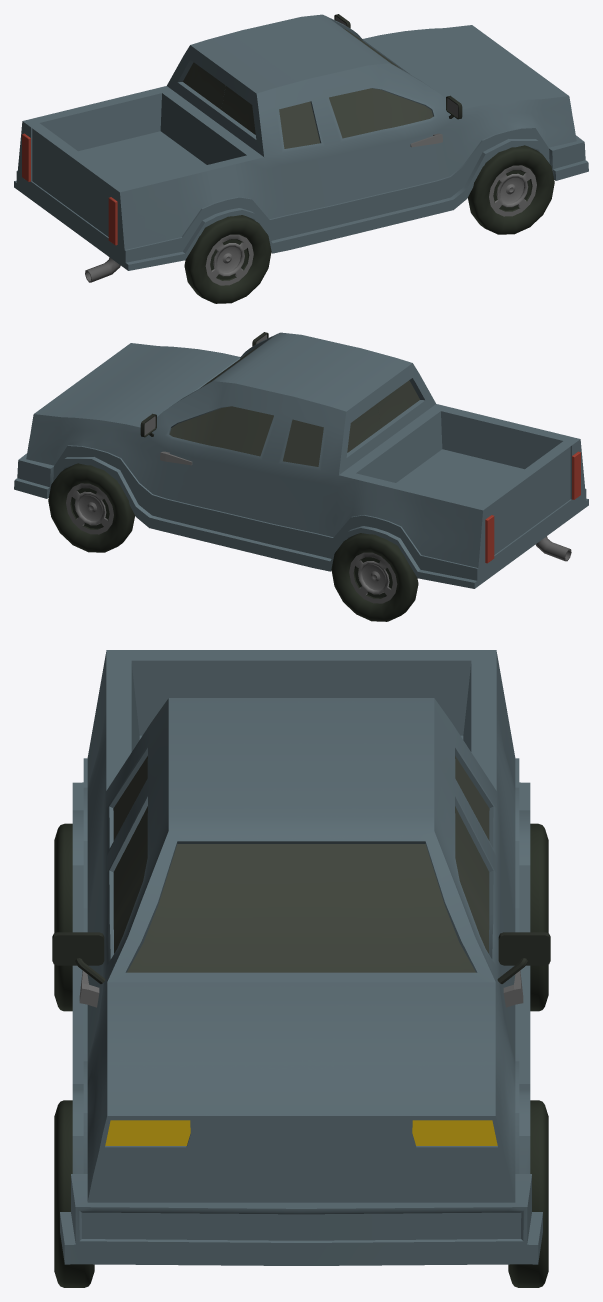
Rendered from truck.fbx.
3 renders of one model, top to bottom at view 1: azimuth 30°, elevation 25°; view 2: azimuth 150°, elevation 25°; view 3: azimuth 270°, elevation 25°, orthographic. The views are drawn at different scales.
Parts seen in each view (by area): view 1: Truck; view 2: Truck; view 3: Truck.
Part boxes in pixels (x1,y1,x2,y2): Truck: (14, 14, 588, 303); Truck: (14, 332, 588, 621); Truck: (52, 650, 550, 1287).
Size of the model in its own units: 203 by 74.07 by 92.98.
